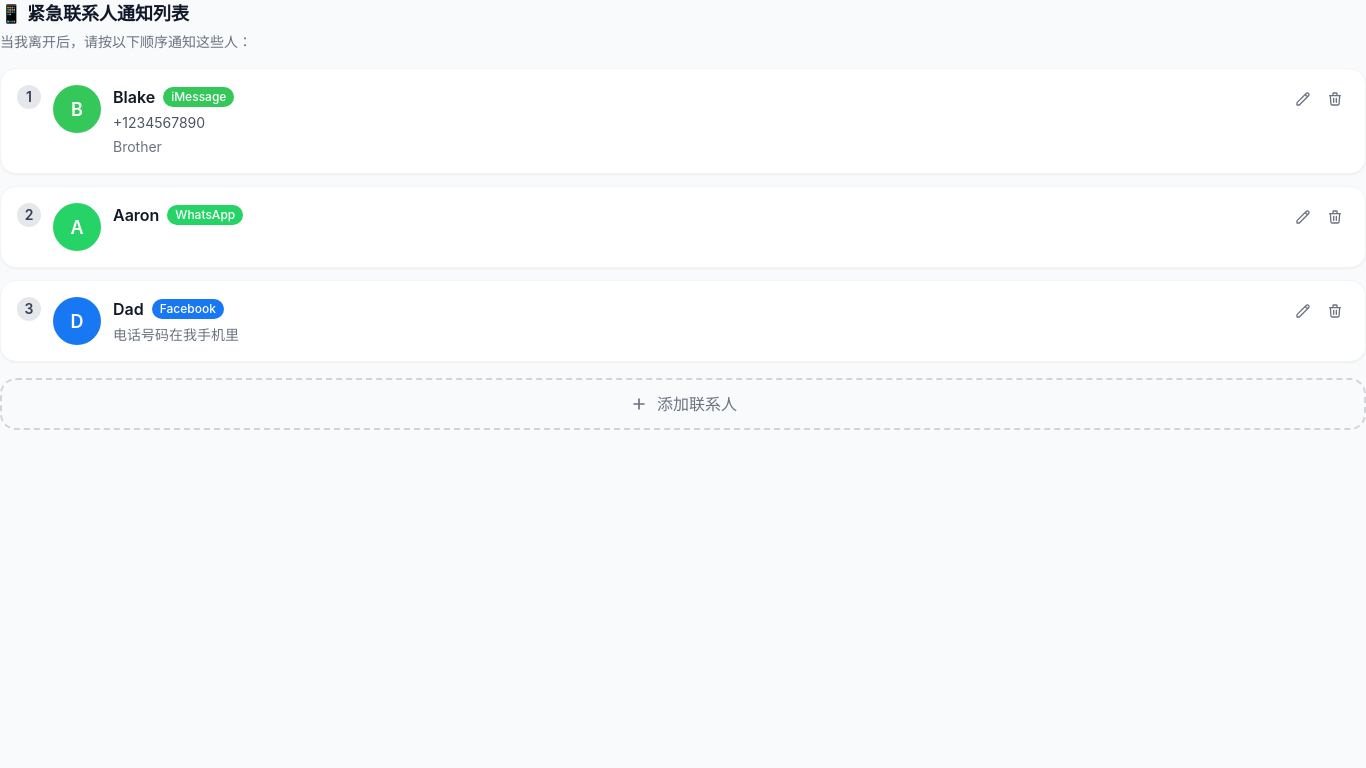
ContactBubbleList › Add Contact › should show form when add button is clicked
Click the button with test id "add-contact-button" at (683, 404), box [0,378,1365,430]
(page scrolled)
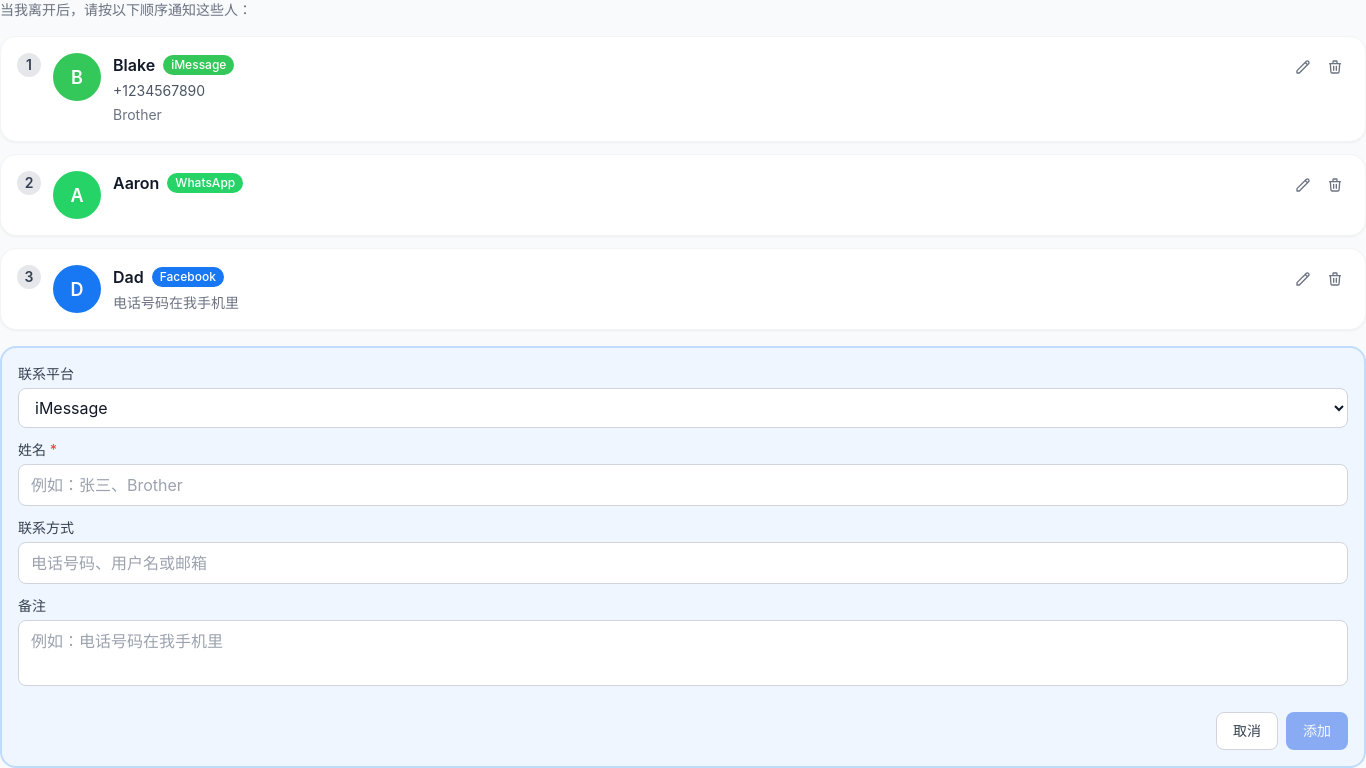
Expected: the form with test id "contact-bubble-form" is shown, [0,346,1365,767]
